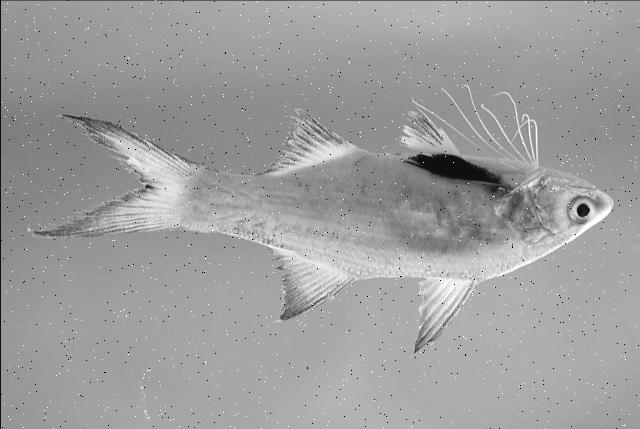Mulut: (540, 161, 622, 239)
Sirip Anal: (240, 102, 364, 182)
Sirip Dada: (396, 143, 508, 199)
Sirip Ekor: (14, 102, 210, 247)
Sirip Perut: (390, 100, 464, 160)
Sirip Punggung: (252, 234, 486, 358)
